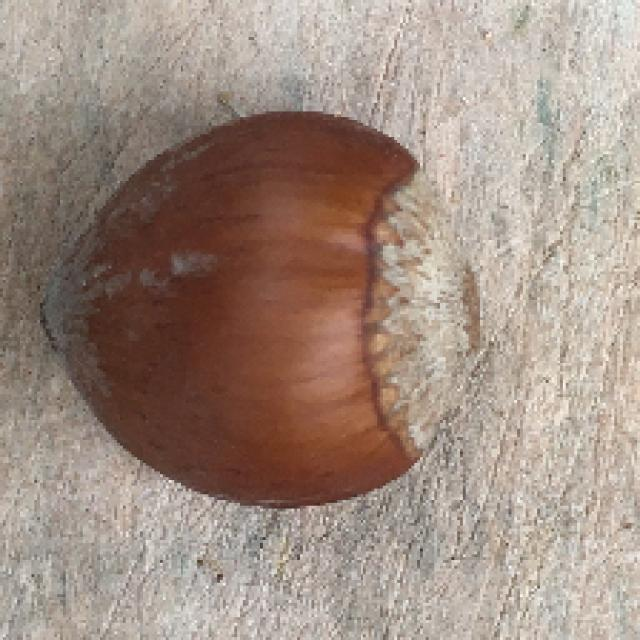qualityHazelnut: (33, 106, 486, 510)
